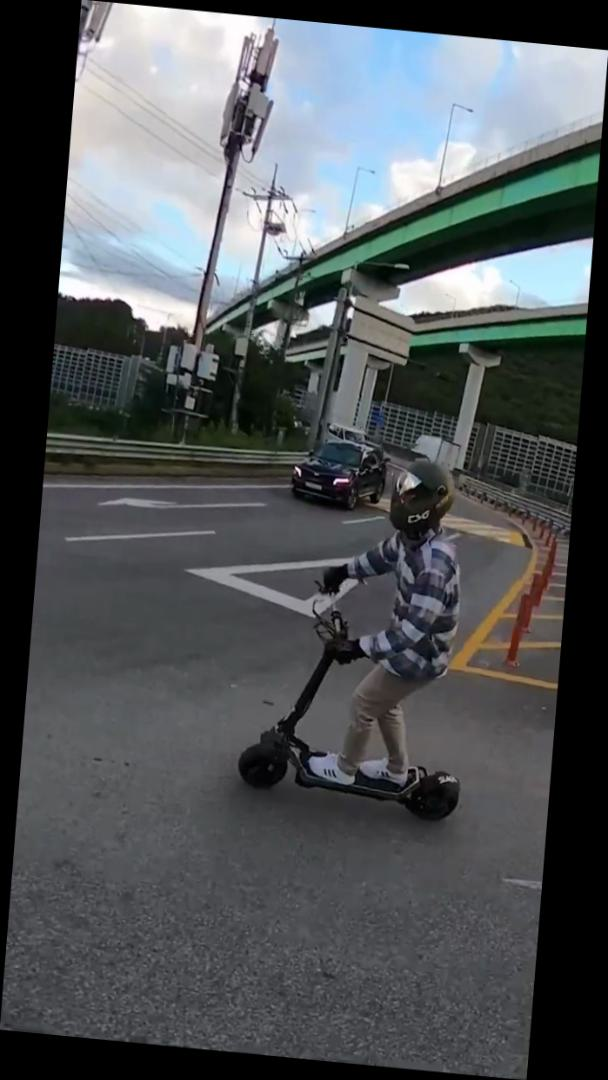helmet: (232, 439, 494, 828)
